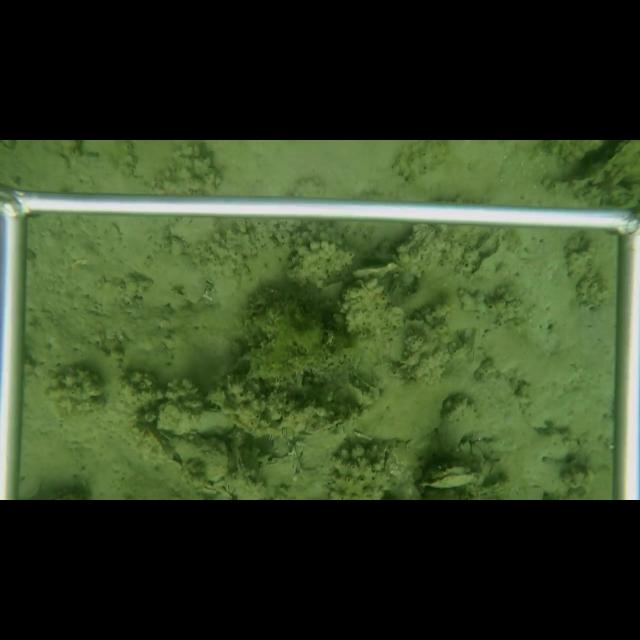Oyster-Closed: (165, 435, 231, 482), (155, 400, 237, 437), (465, 235, 515, 278), (415, 471, 485, 489)
Oyster-Open: (415, 459, 477, 483)
